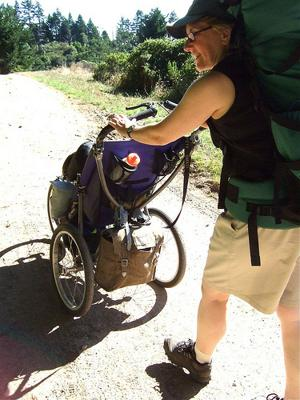person: (108, 3, 300, 400)
